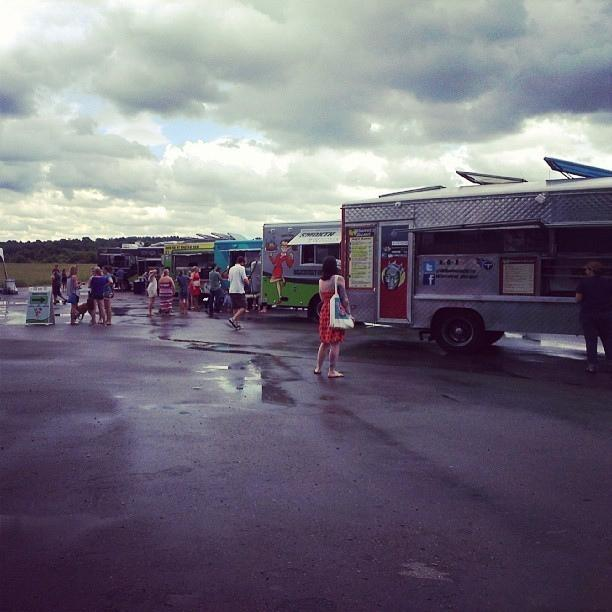truck: (342, 155, 612, 357), (260, 218, 340, 322), (162, 243, 215, 292), (215, 240, 260, 292), (96, 246, 164, 278)
